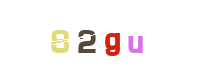2: (60, 0, 140, 80)
8: (26, 0, 106, 80)
G: (60, 0, 140, 80)
U: (96, 0, 176, 80)
